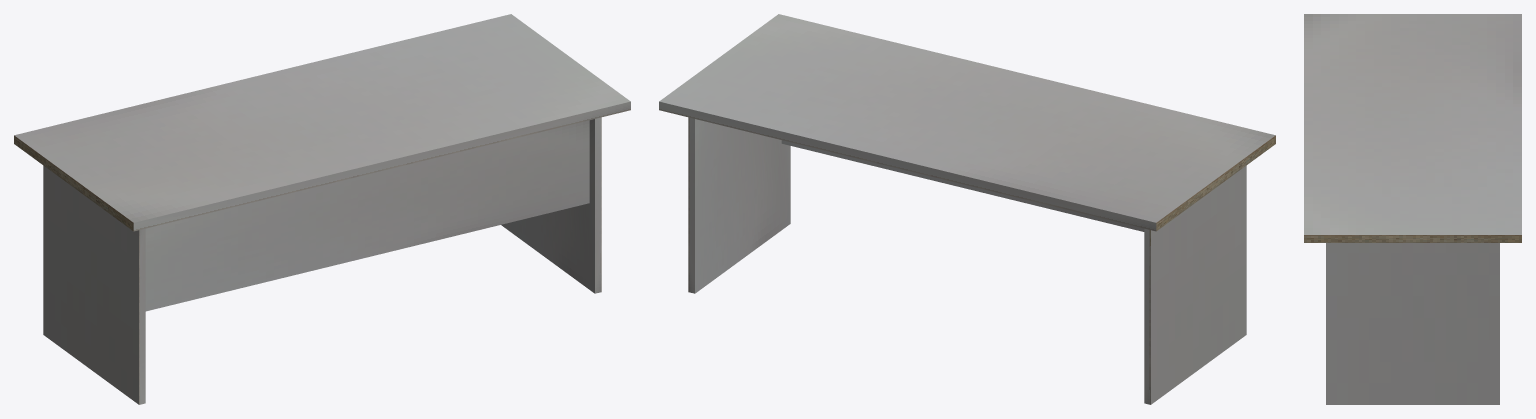
File: desk_1.glb
3 views of the same model, side by side, from view 1: azimuth 30°, elevation 25°; view 2: azimuth 150°, elevation 25°; view 3: azimuth 270°, elevation 25° (orthographic). The views are drawn at different scales.
Parts seen in each view (by area): view 1: desk; view 2: desk; view 3: desk.
Part boxes in pixels (x1=…): desk: x1=14, y1=14, x2=630, y2=404; desk: x1=659, y1=14, x2=1275, y2=404; desk: x1=1304, y1=14, x2=1521, y2=404.
Size of the model in its own units: 6 by 2.25 by 2.5.
Materials: 1 (1 with a texture image).
